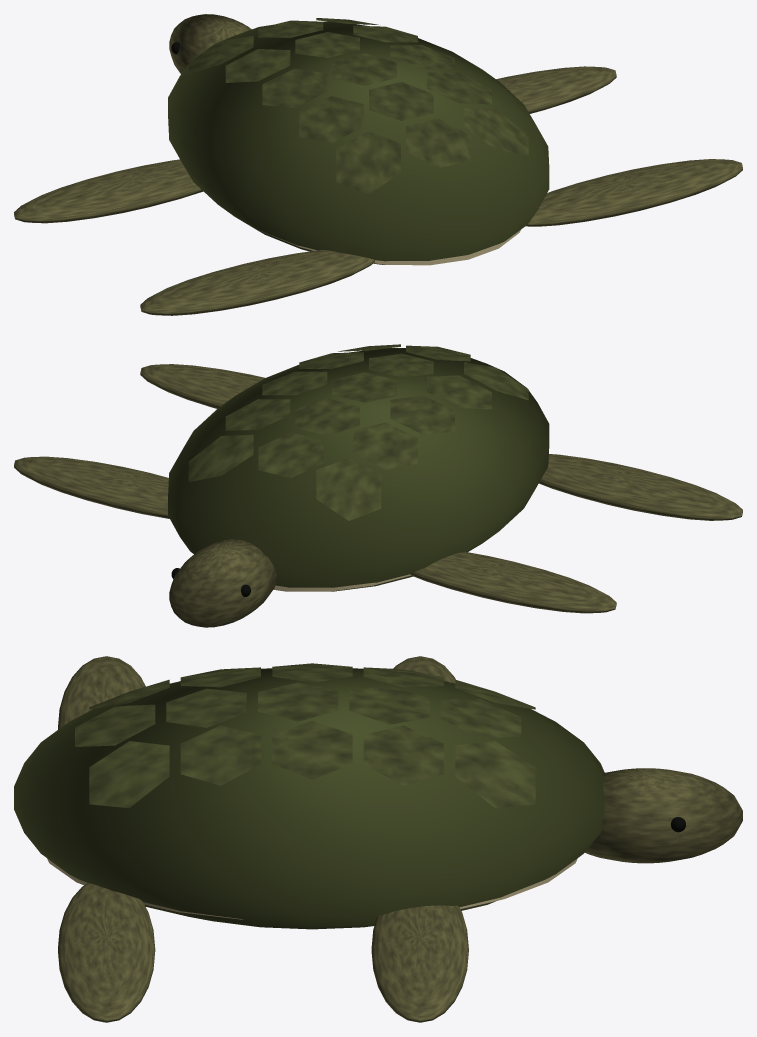
The model's file is sea_turtle.glb.
The picture shows the model from 3 angles, top to bottom: view 1: azimuth 30°, elevation 25°; view 2: azimuth 150°, elevation 25°; view 3: azimuth 270°, elevation 25°; orthographic projection. The views are drawn at different scales.
Parts seen in each view (by area): view 1: BatchedSurface, _MeshInstance3D_27, Flipper2, Flipper4, Flipper, Flipper3, _MeshInstance3D_25, _MeshInstance3D_24; view 2: BatchedSurface, _MeshInstance3D_27, Flipper2, _MeshInstance3D_25, Flipper, Flipper3, Flipper4, _MeshInstance3D_24; view 3: BatchedSurface, _MeshInstance3D_27, _MeshInstance3D_25, Flipper4, Flipper3, Flipper2, _MeshInstance3D_24, Flipper.
Part boxes in pixels (<box>): BatchedSurface: <box>168,21,549,264</box>; _MeshInstance3D_27: <box>188,18,528,194</box>; Flipper2: <box>140,250,374,315</box>; Flipper4: <box>526,159,742,226</box>; Flipper: <box>14,159,203,223</box>; Flipper3: <box>496,66,616,113</box>; _MeshInstance3D_25: <box>169,14,251,73</box>; _MeshInstance3D_24: <box>260,230,520,265</box>; BatchedSurface: <box>168,348,549,591</box>; _MeshInstance3D_27: <box>188,344,528,520</box>; Flipper2: <box>539,454,742,520</box>; _MeshInstance3D_25: <box>169,538,277,627</box>; Flipper: <box>410,551,616,613</box>; Flipper3: <box>14,456,169,518</box>; Flipper4: <box>140,364,264,408</box>; _MeshInstance3D_24: <box>273,574,410,591</box>; BatchedSurface: <box>14,668,604,929</box>; _MeshInstance3D_27: <box>75,663,535,808</box>; _MeshInstance3D_25: <box>585,768,742,863</box>; Flipper4: <box>58,883,155,1022</box>; Flipper3: <box>371,905,468,1022</box>; Flipper2: <box>58,656,145,729</box>; _MeshInstance3D_24: <box>47,858,577,919</box>; Flipper: <box>393,656,455,683</box>.
Size of the model in its own units: 1.32 by 0.3258 by 1.12.
Materials: 5 (2 with a texture image).
